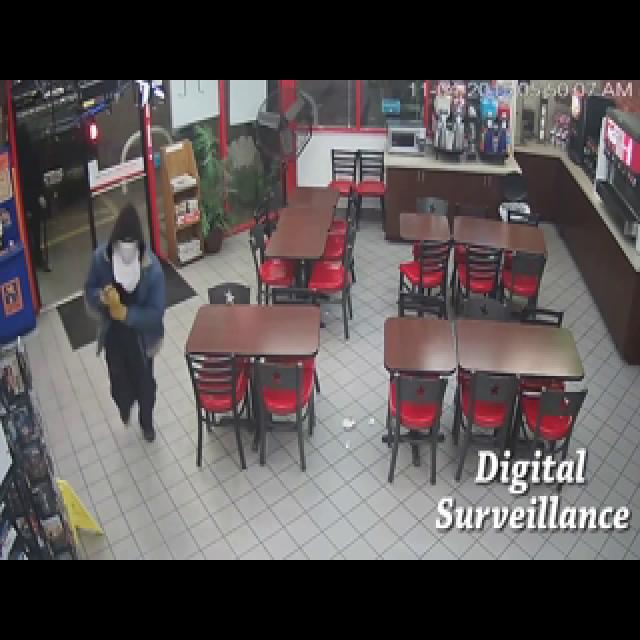burglary: (23, 143, 245, 513)
